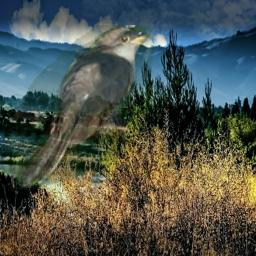Cuckoo: (11, 25, 154, 193)
